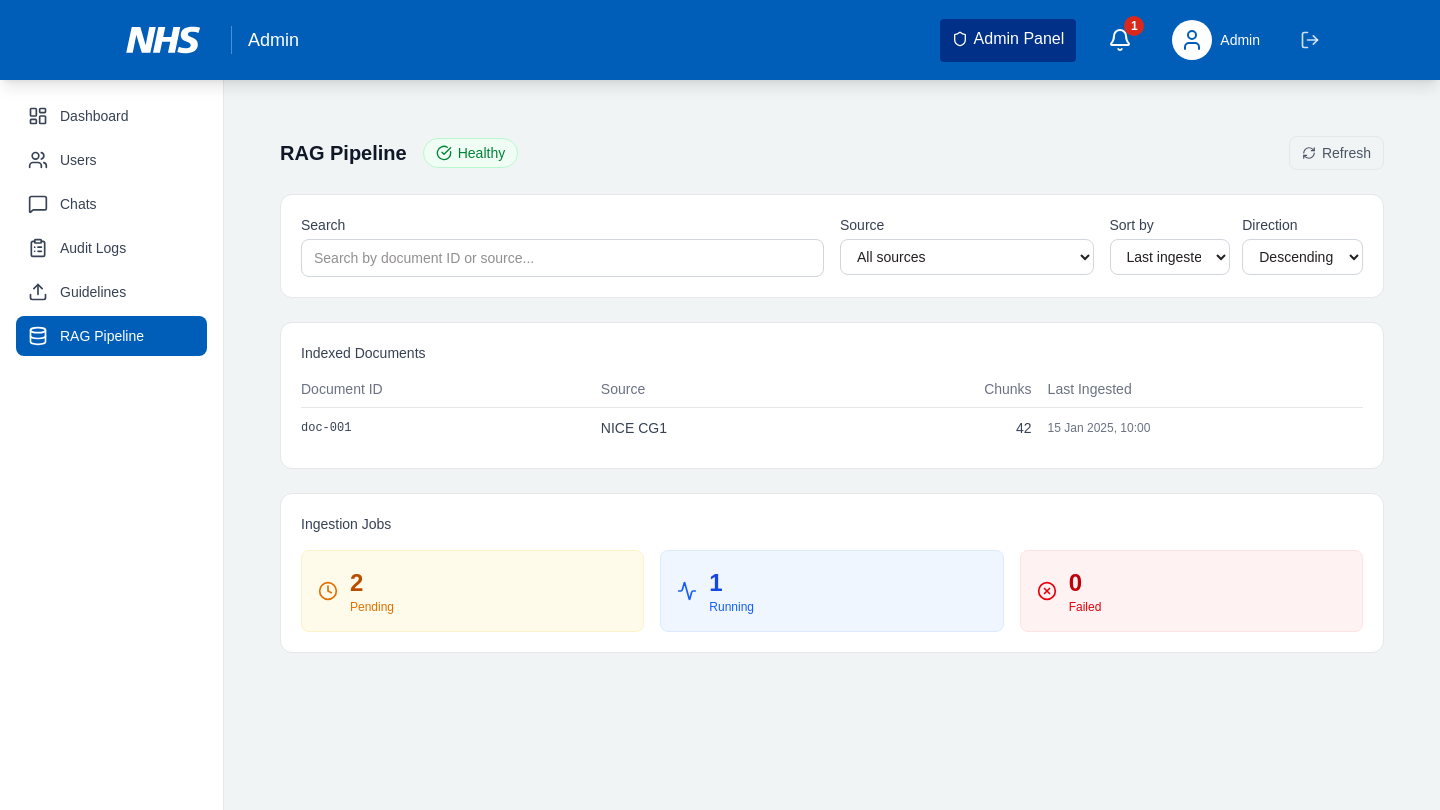
Test: AdminRagPage — refresh › re-fetches and updates data on refresh click
Expected: the text "doc-001" is shown, [301,408,601,448]
Click the button "Refresh": (1336, 153) [1289,136,1384,170]
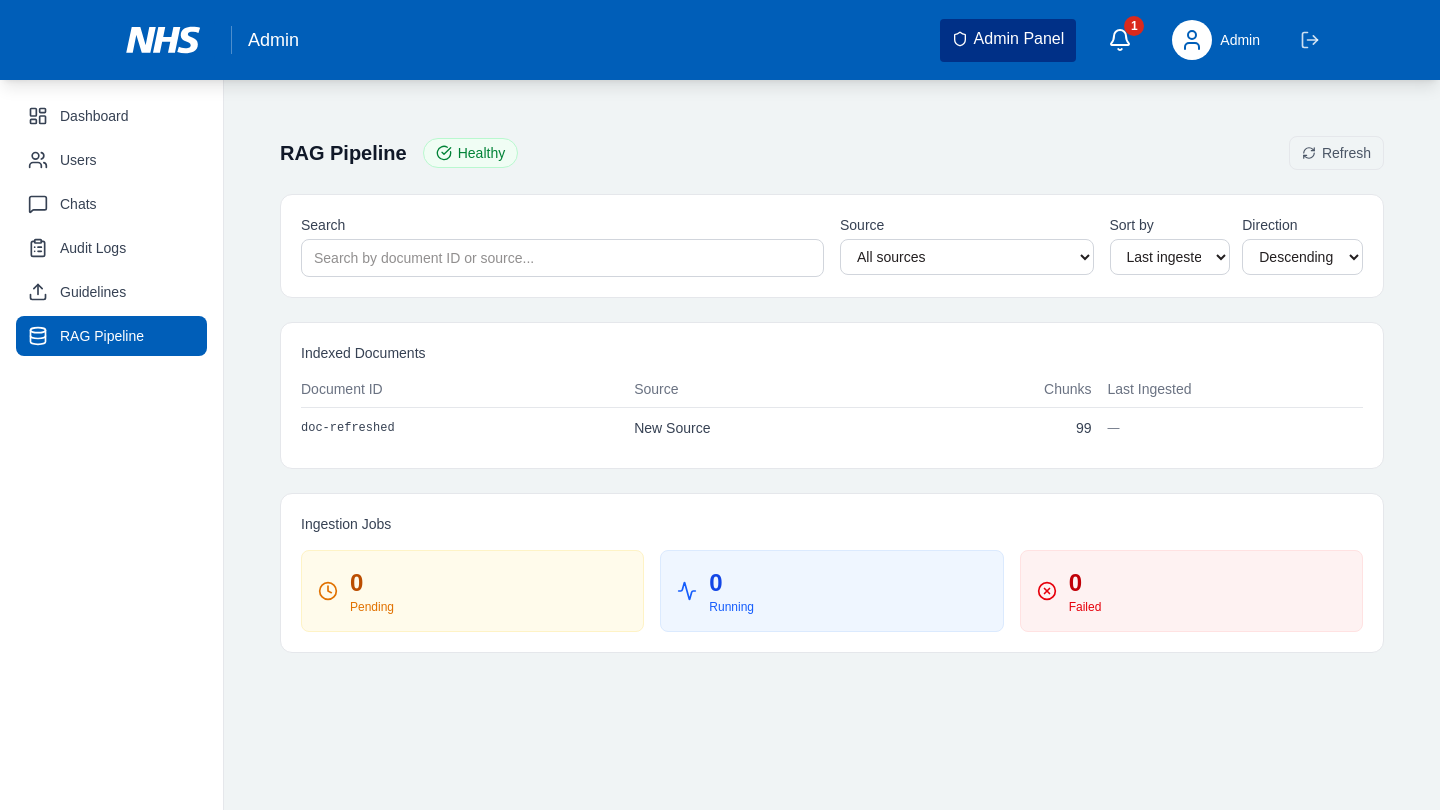
Expected: the text "doc-refreshed" is shown, [301,408,634,448]
Expected: the text "99" is shown, [915,408,1108,448]
